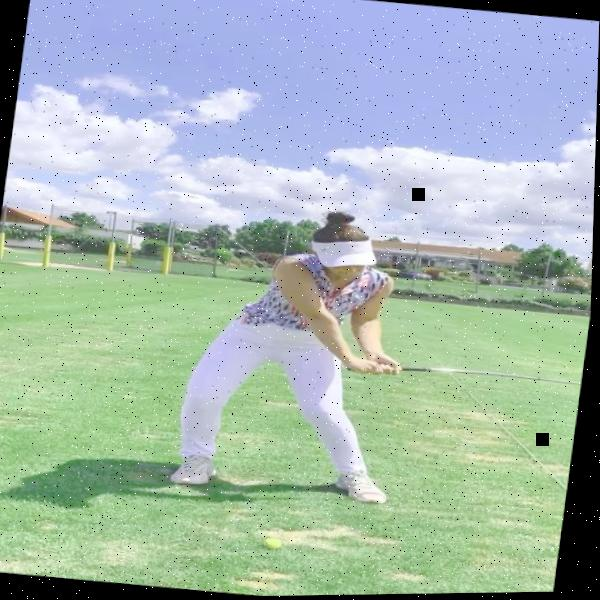GolfBall: (266, 538, 286, 550)
